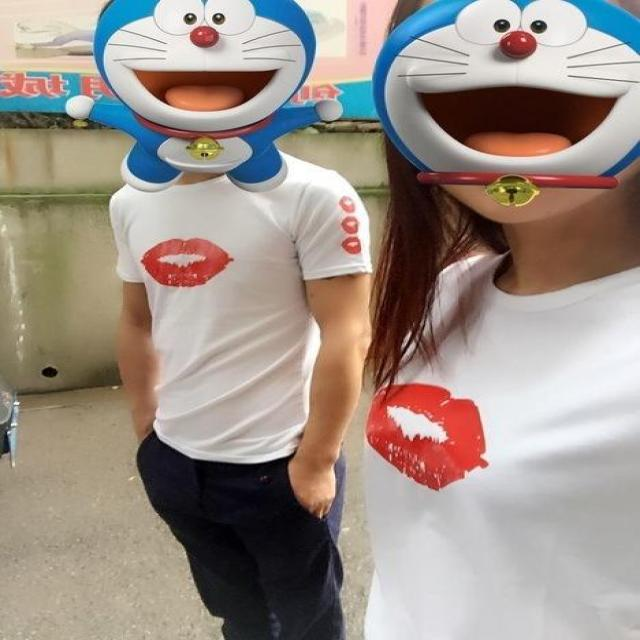short sleeve top: (366, 251, 639, 635), (109, 154, 371, 465)
trousers: (156, 418, 342, 636)
